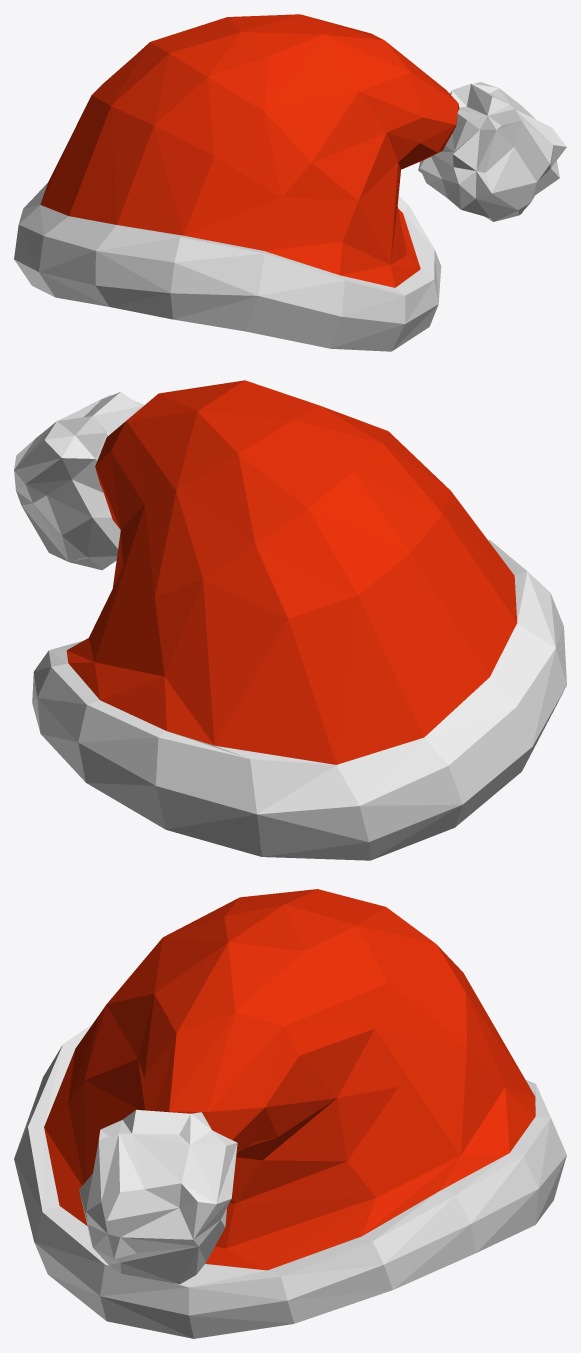
File: SantaHat.fbx
The picture shows the model from 3 angles, top to bottom: view 1: azimuth 30°, elevation 25°; view 2: azimuth 150°, elevation 25°; view 3: azimuth 270°, elevation 25°; orthographic projection. The views are drawn at different scales.
Visible parts, largest first — view 1: SantaHat; view 2: SantaHat; view 3: SantaHat.
Part boxes in pixels (x1,y1,x2,y2): SantaHat: (14, 14, 566, 351); SantaHat: (14, 380, 566, 860); SantaHat: (14, 889, 566, 1338).
Bounding box in the file's own units: 2.6 × 1.51 × 2.19.
